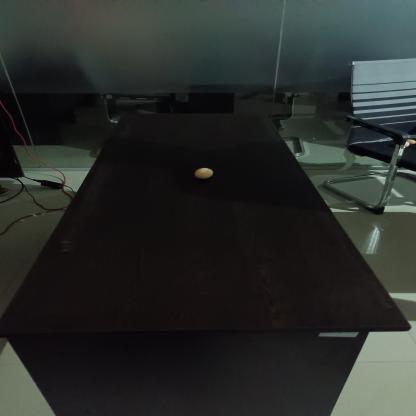egg: (193, 166, 216, 181)
